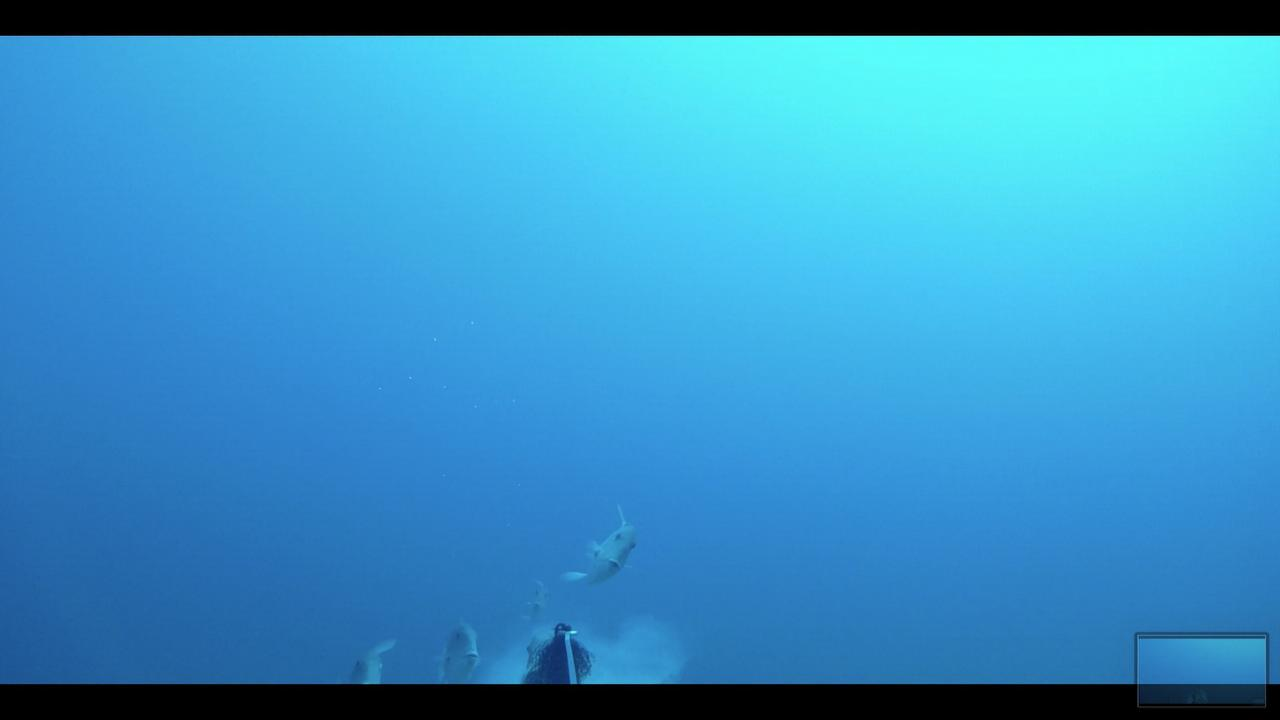balistes: (555, 501, 640, 589), (425, 621, 489, 679)
